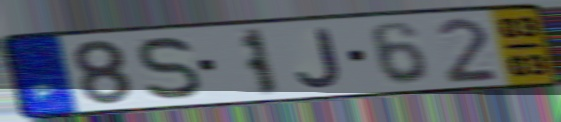1: (237, 25, 283, 99)
2: (432, 14, 502, 86)
6: (368, 19, 430, 87)
8: (71, 38, 136, 106)
J: (293, 26, 344, 90)
S: (135, 34, 205, 102)
